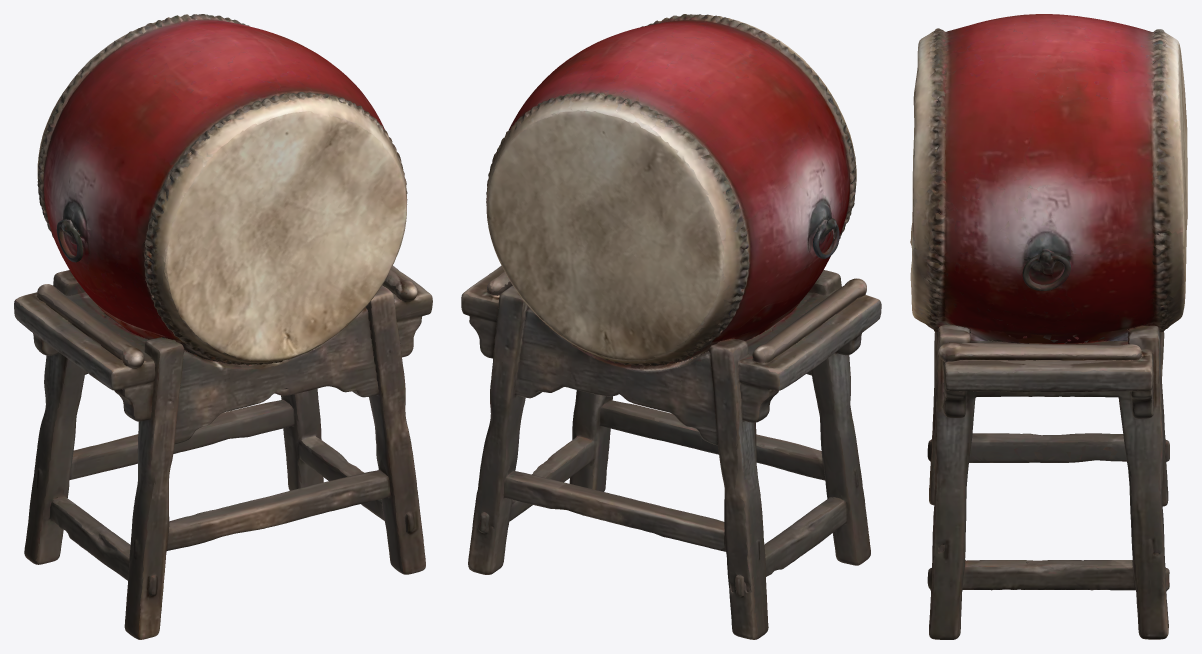
File: war-drum.glb
3 renders of one model, left to right at view 1: azimuth 30°, elevation 25°; view 2: azimuth 150°, elevation 25°; view 3: azimuth 270°, elevation 25°, orthographic. The views are drawn at different scales.
Parts seen in each view (by area): view 1: geometry_0; view 2: geometry_0; view 3: geometry_0.
Part boxes in pixels (x1,y1,x2,y2): geometry_0: (14, 14, 432, 639); geometry_0: (461, 14, 881, 639); geometry_0: (910, 14, 1187, 639).
Size of the model in its own units: 0.58 by 0.8857 by 0.4165.
Materials: 1 (1 with a texture image).
